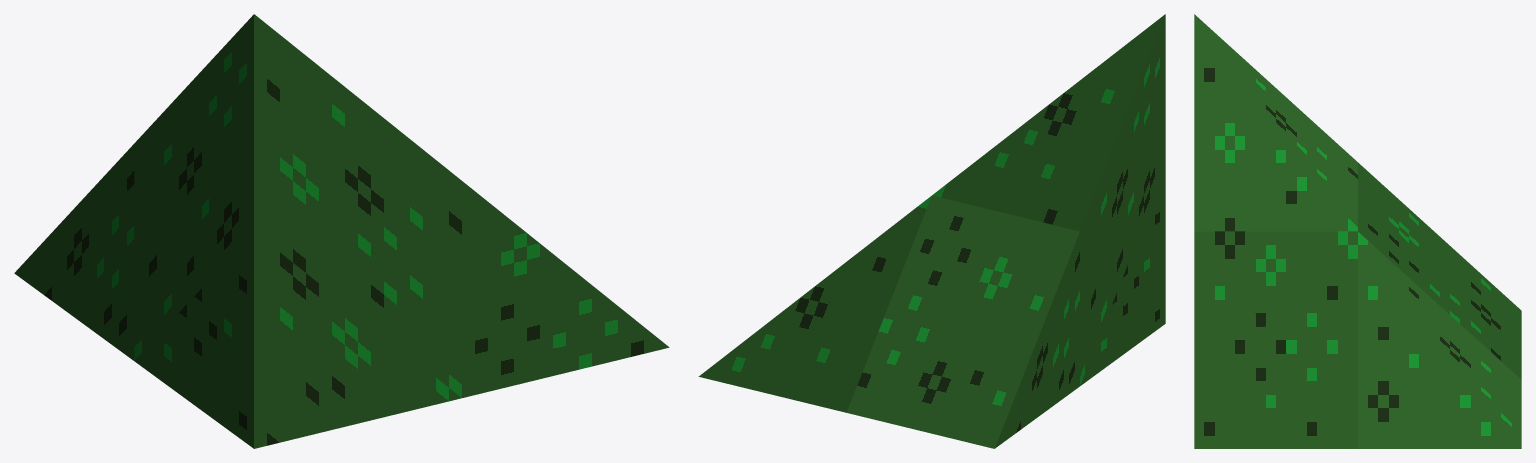
Rendered from SlopeMid2.obj.
3 views of the same model, side by side, from view 1: azimuth 30°, elevation 25°; view 2: azimuth 150°, elevation 25°; view 3: azimuth 270°, elevation 25° (orthographic). The views are drawn at different scales.
Parts seen in each view (by area): view 1: SlopeMid2_Cube.010; view 2: SlopeMid2_Cube.010; view 3: SlopeMid2_Cube.010.
Part boxes in pixels (bbox=[...]): SlopeMid2_Cube.010: bbox=[14, 14, 669, 448]; SlopeMid2_Cube.010: bbox=[698, 14, 1165, 448]; SlopeMid2_Cube.010: bbox=[1194, 14, 1521, 448].
Size of the model in its own units: 1 by 1 by 1.
Materials: 1 (1 with a texture image).
